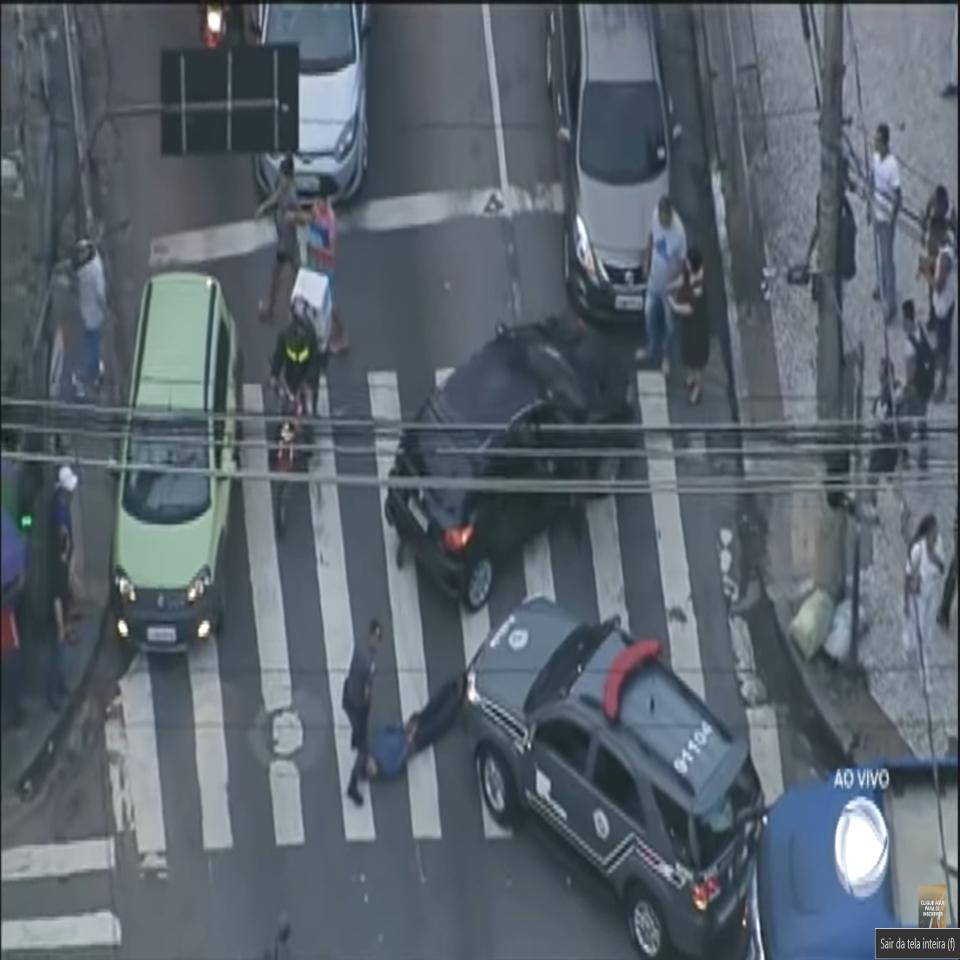viatura: (466, 592, 764, 960)
